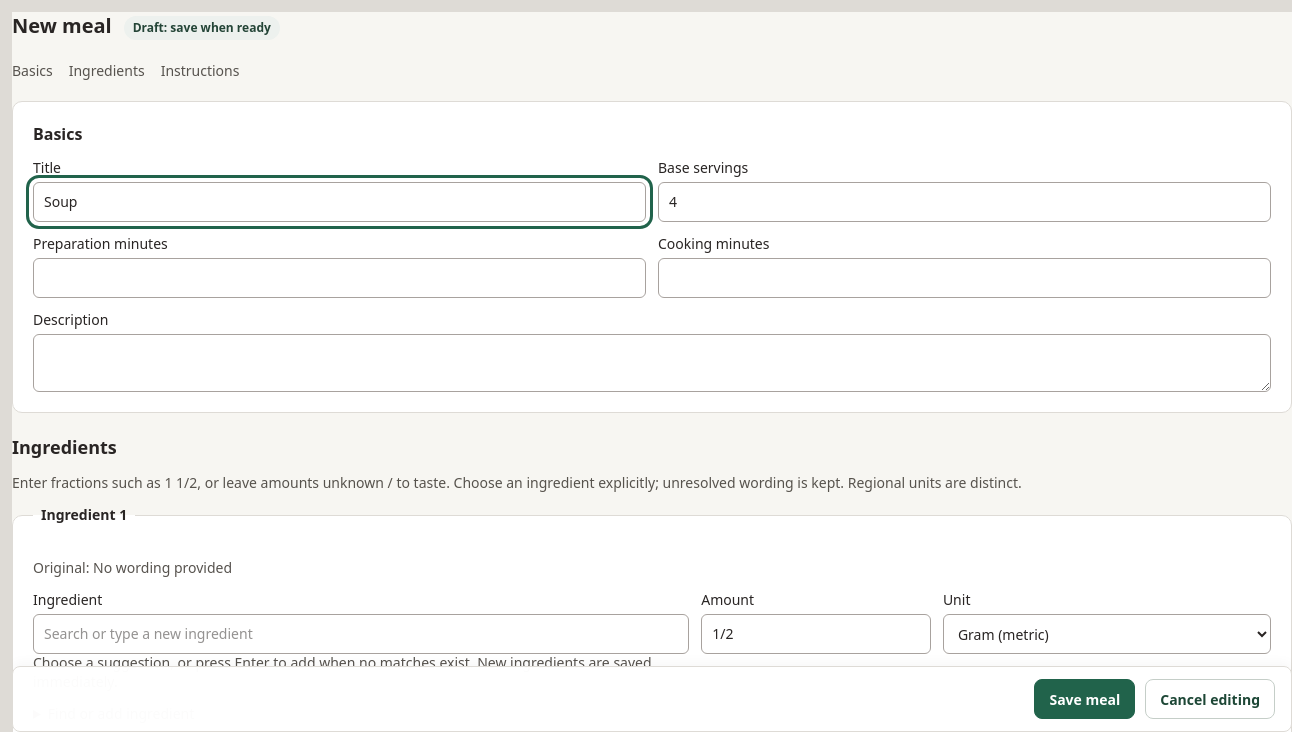
Test case: rechecks exact identities before creation to avoid a duplicate from stale suggestions
Type "Onions" into the dropdown labelled "Ingredient" at (361, 634), box [33,614,689,654]
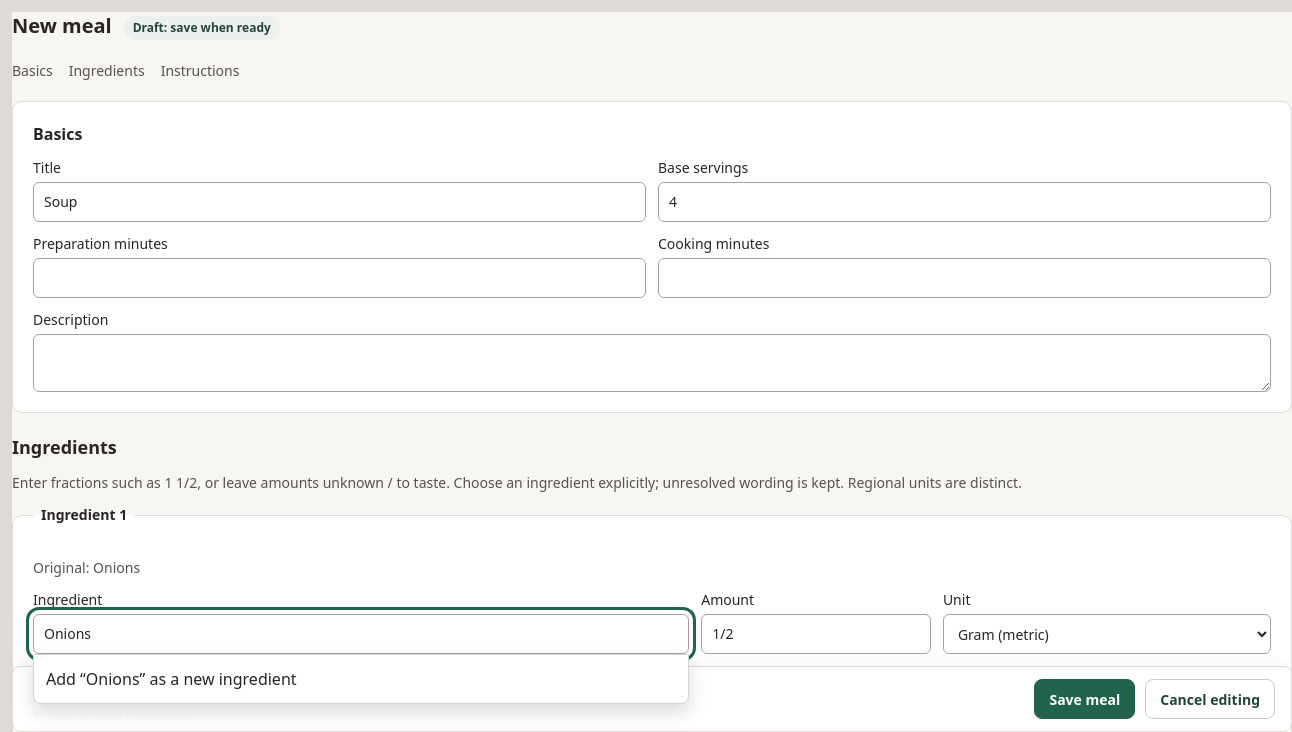
Click the option "Add “Onions” as a new ingredient" at (66, 679), box [38,659,684,699]
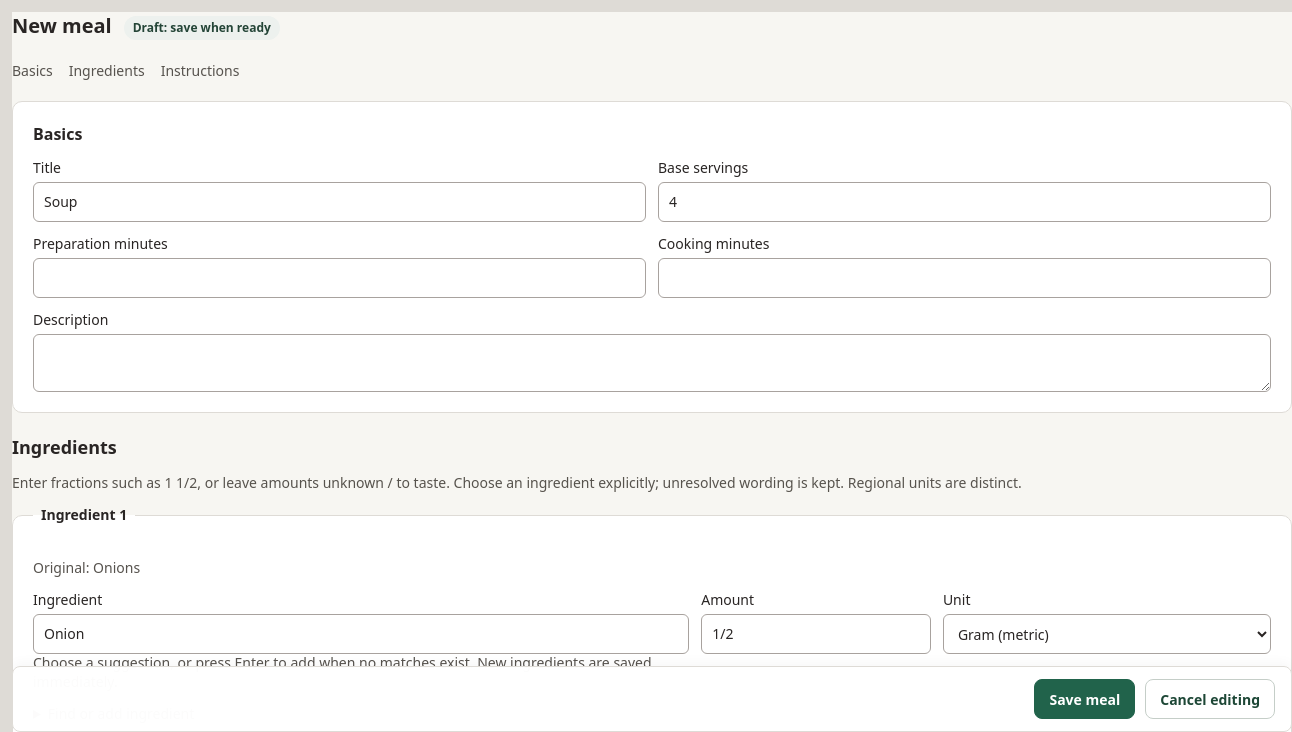
Expected: the dropdown labelled "Ingredient" holds "Onion", [33,614,689,654]
